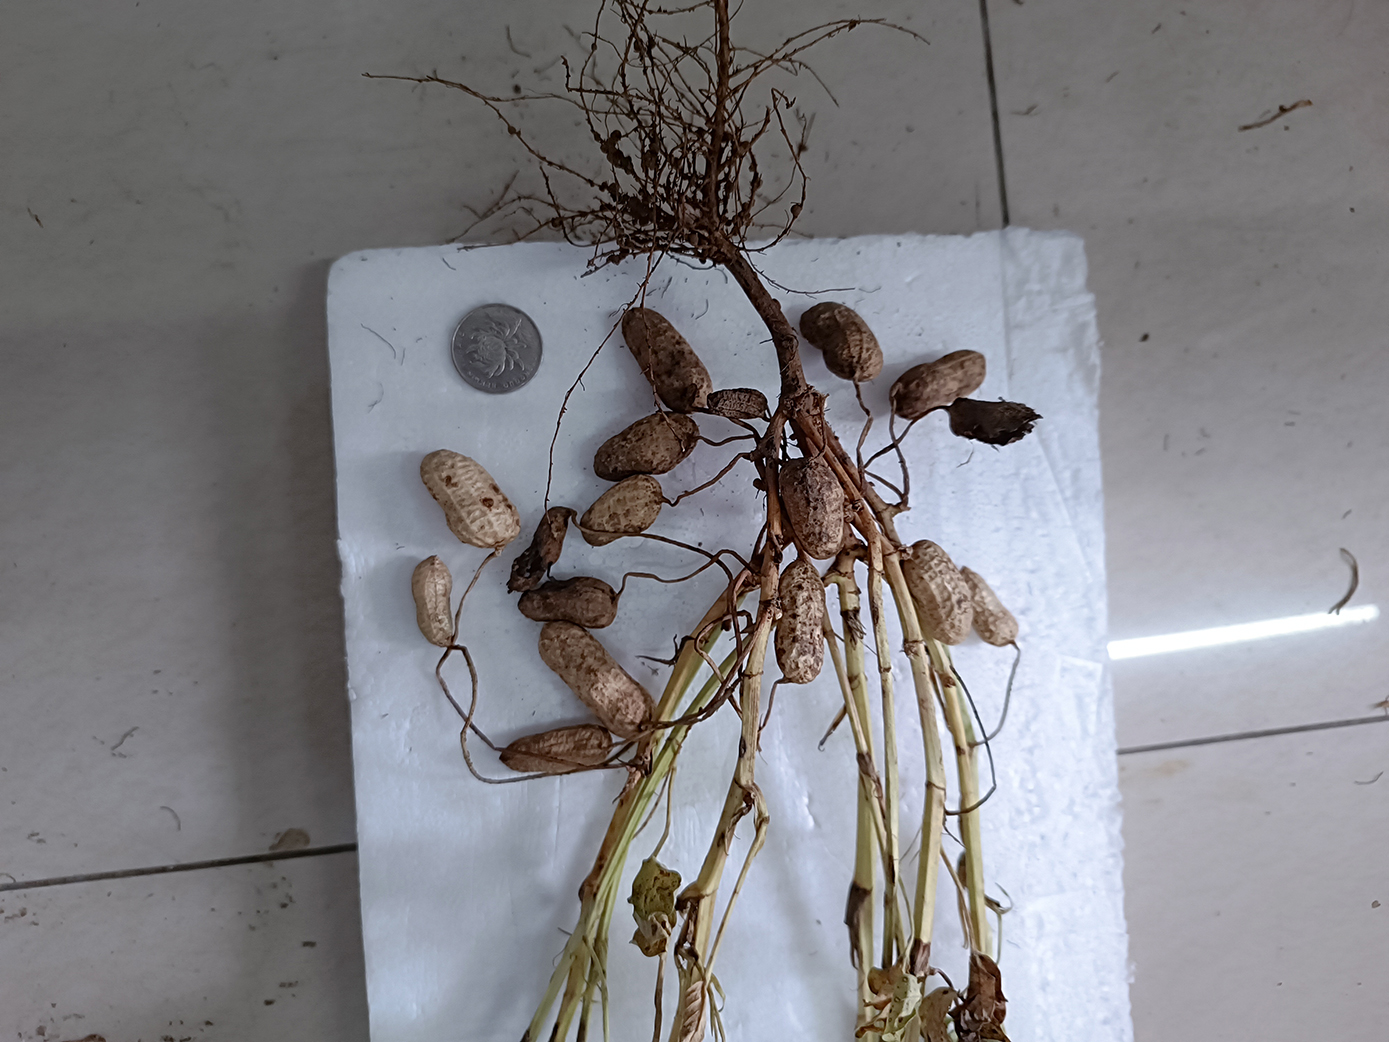h: (539, 623, 655, 742), (419, 449, 522, 549), (901, 540, 973, 642), (582, 475, 664, 547), (500, 723, 614, 773), (960, 564, 1019, 647), (410, 554, 455, 647)
l: (621, 306, 711, 415), (594, 412, 699, 482), (889, 349, 986, 420), (799, 302, 884, 383), (779, 458, 845, 560), (774, 559, 826, 685), (506, 506, 572, 594), (517, 577, 618, 629), (949, 396, 1044, 447), (707, 387, 767, 420)
